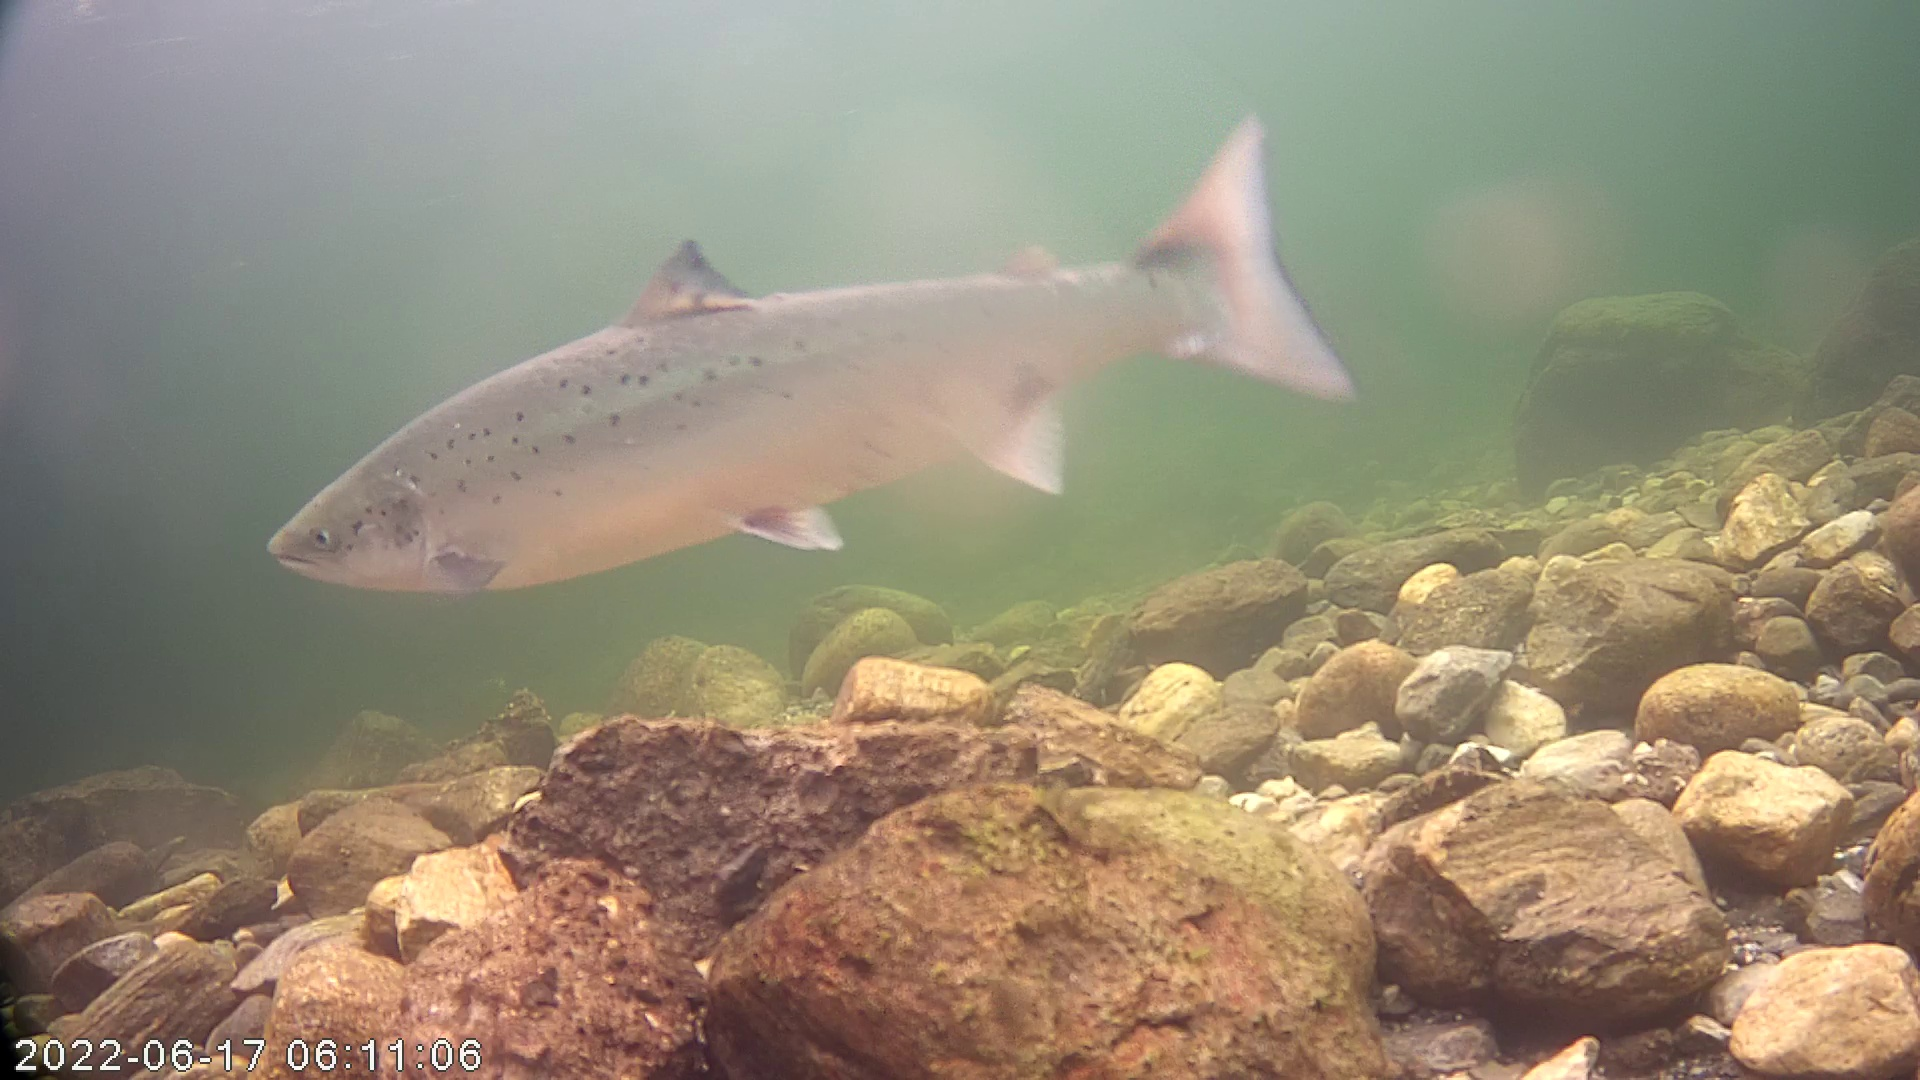salmon: (266, 109, 1358, 599)
